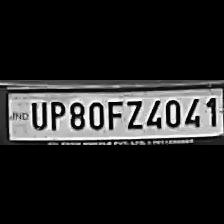0: (86, 98, 106, 130), (161, 96, 181, 128)
1: (202, 95, 220, 127)
4: (142, 96, 162, 128), (181, 95, 201, 127)
8: (66, 97, 86, 130)
F: (105, 98, 123, 130)
P: (46, 97, 66, 130)
U: (28, 98, 48, 130)
Z: (122, 97, 142, 130)
